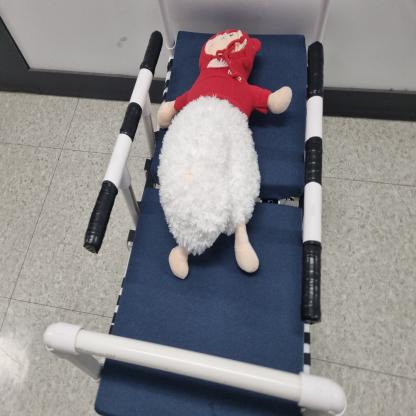yp: (91, 2, 338, 416)
